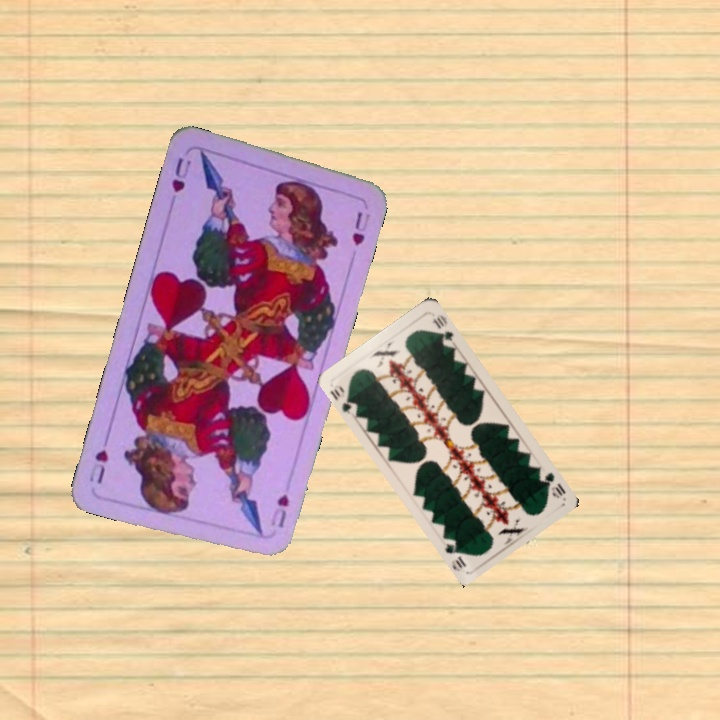G10: (326, 380, 361, 417), (538, 468, 569, 501)
HU: (166, 153, 194, 208), (273, 488, 292, 531)
